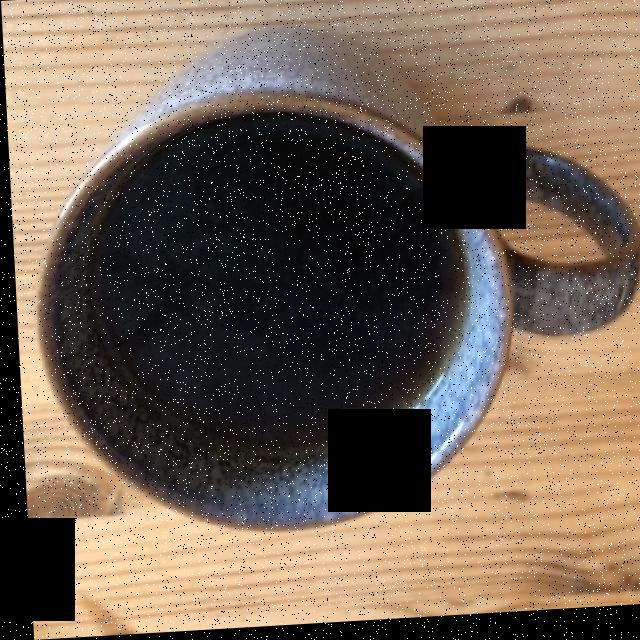tea-black: (91, 127, 453, 447)
